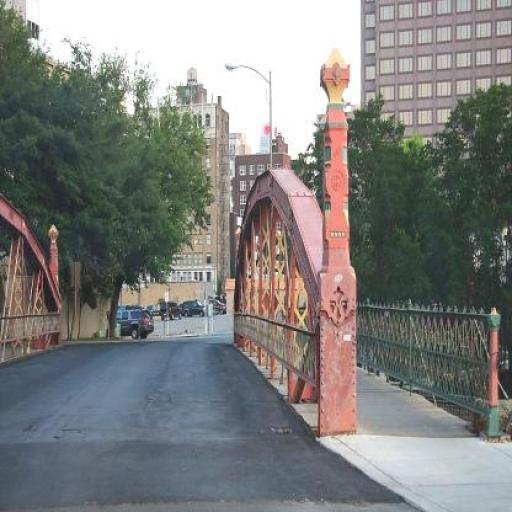street light: (224, 61, 273, 330)
